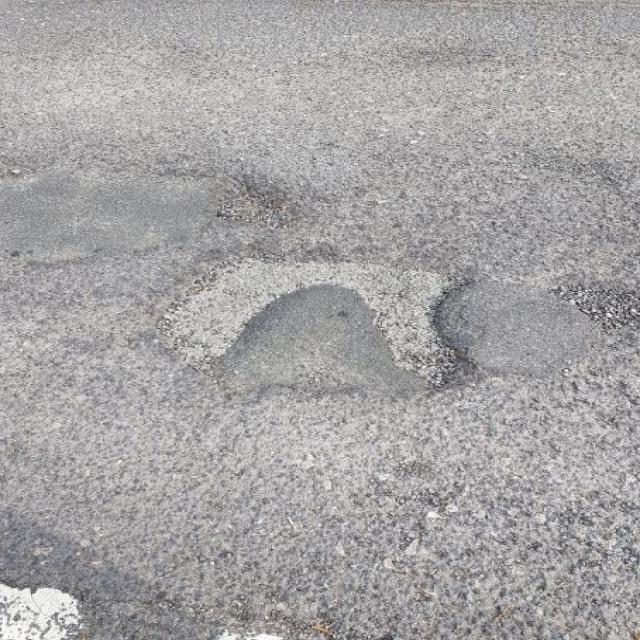Pothole: (145, 248, 485, 387)
